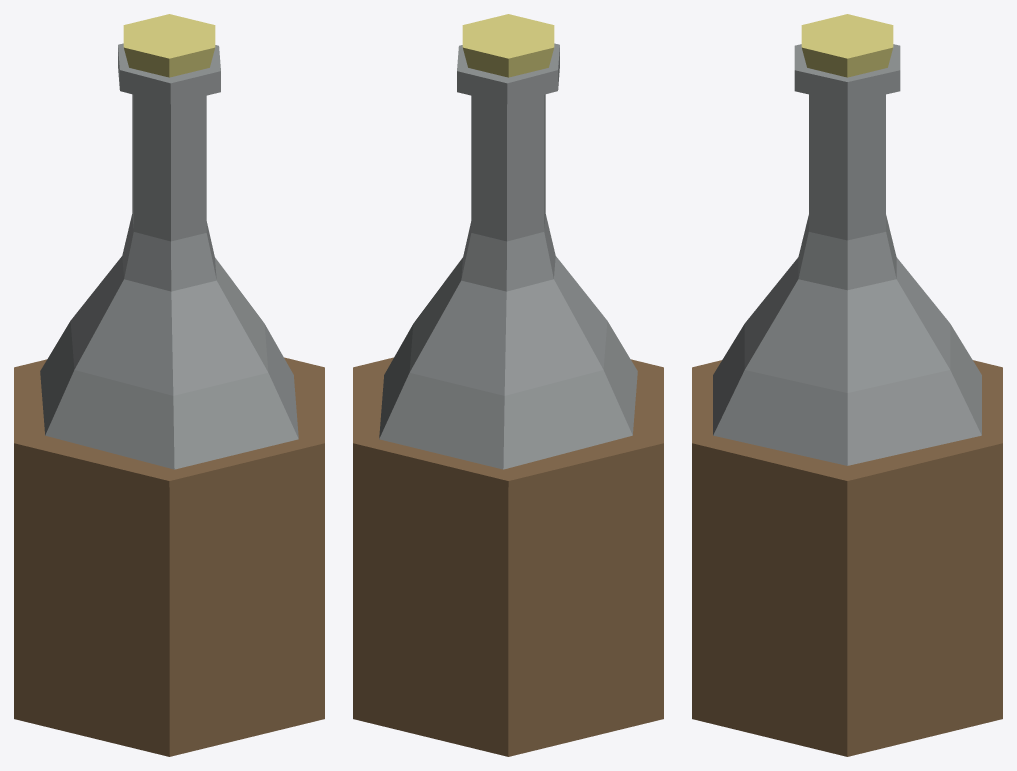
File: Bottle_5.fbx
3 renders of one model, left to right at view 1: azimuth 30°, elevation 25°; view 2: azimuth 150°, elevation 25°; view 3: azimuth 270°, elevation 25°, orthographic.
Parts seen in each view (by area): view 1: Bottle_5; view 2: Bottle_5; view 3: Bottle_5.
Part boxes in pixels (x1,y1,x2,y2): Bottle_5: (14, 14, 324, 756); Bottle_5: (353, 14, 663, 756); Bottle_5: (692, 14, 1002, 756).
Size of the model in its own units: 17.57 by 34.83 by 15.22.
Materials: 1 (1 with a texture image).
